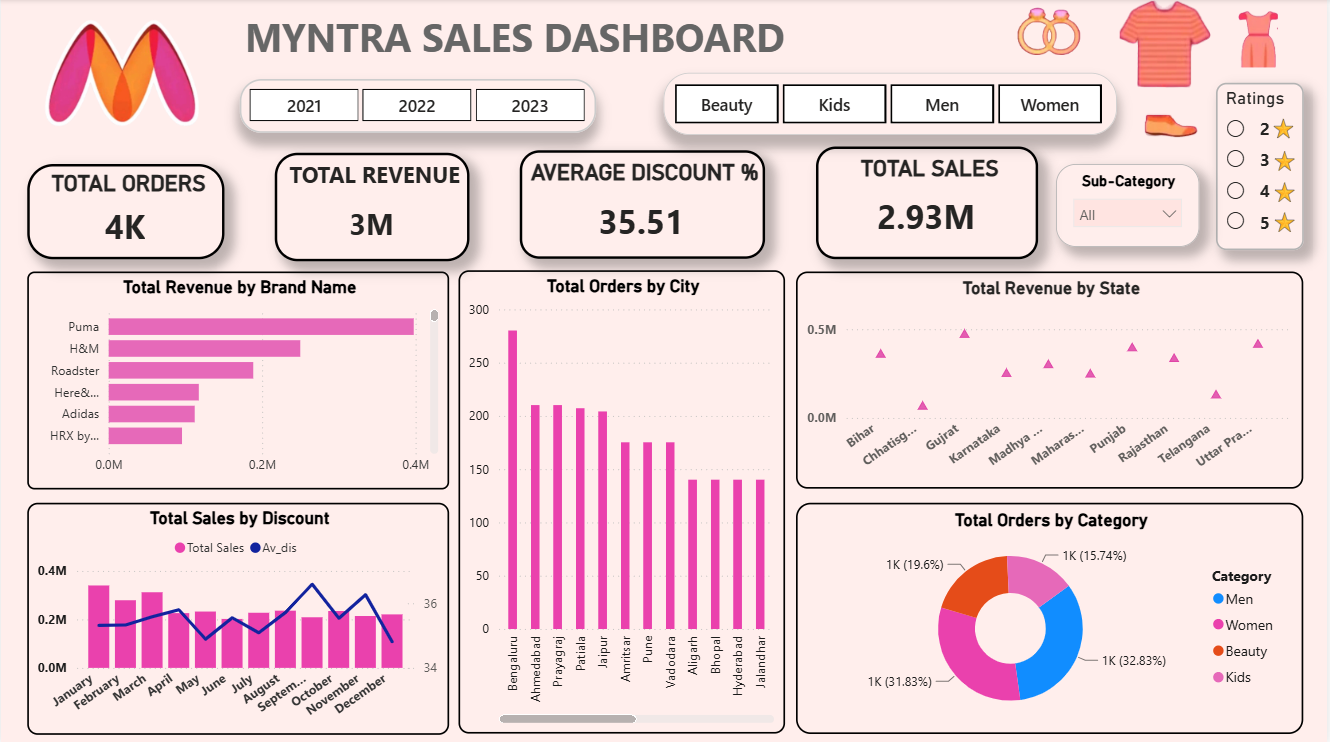

The dashboard page shown, as its layout file describes it:
{"tool":"powerbi","page":{"name":"Page 1","canvas":[1280,720],"ordinal":0},"visuals":[{"type":"image","box":[39.8,0,155.6,146],"z":0},{"type":"advancedSlicerVisual","fields":{"Values":["fact_orders.Date.Variation.Date Hierarchy.Year"]},"box":[230.4,77.2,343.8,51.9],"z":1000},{"type":"advancedSlicerVisual","fields":{"Values":["dim_products.Category"]},"box":[639.4,71.2,437.9,60.3],"z":2000},{"type":"clusteredBarChart","title":"Total Revenue by Brand Name","fields":{"Y":["fact_orders.Total revenue"],"Category":["dim_products.Brand Name"]},"box":[25.7,262.9,407.2,210.3],"z":3000},{"type":"lineStackedColumnComboChart","title":"Total Sales by Discount","fields":{"Y2":["dim_customers.Av_dis"],"Y":["fact_orders.Total Sales"],"Category":["fact_orders.Date.Variation.Date Hierarchy.Month"]},"box":[25.7,486.7,407.2,223.8],"z":4000},{"type":"ribbonChart","fields":{"Category":["dim_customers.City"],"Y":["fact_orders.Total Orders"]},"box":[441.6,261.8,314.9,447.6],"z":5000},{"type":"donutChart","fields":{"Category":["dim_products.Category"],"Y":["fact_orders.Total Orders"]},"box":[767.3,486.2,489.8,223.2],"z":6000},{"type":"textbox","box":[230.4,8.4,598.4,65.1],"z":7000},{"type":"cardVisual","title":"AVERAGE DISCOUNT","fields":{"Data":["dim_customers.Av_dis"]},"box":[500.7,146,236.5,105],"z":8000},{"type":"cardVisual","title":"TOTAL SALES","fields":{"Data":["fact_orders.Total Sales"]},"box":[786.6,142.4,214.7,108.6],"z":9000},{"type":"cardVisual","title":"TOTAL REVENUE","fields":{"Data":["fact_orders.Total revenue"]},"box":[264.2,148.4,188.2,105],"z":10000},{"type":"cardVisual","title":"TOTAL ORDERS","fields":{"Data":["fact_orders.Total Orders"]},"box":[25.3,159.3,190.6,91.7],"z":11000},{"type":"scatterChart","title":"Total Revenue by State","fields":{"X":["dim_customers.State"],"Y":["fact_orders.Total revenue"]},"box":[767.3,263,489.8,209.9],"z":12000},{"type":"listSlicer","fields":{"Values":["dim_products.Ratings"]},"box":[1172.7,80.8,84.5,161.7],"z":13000},{"type":"image","box":[1042.6,9.9,115,52],"z":14000},{"type":"image","box":[933.6,8.9,115,53],"z":15000},{"type":"image","box":[811.6,8.9,111,53],"z":16000},{"type":"image","box":[1150.9,13.3,106.2,55.5],"z":17000},{"type":"image","box":[1225.7,113.4,24.1,22.9],"z":18000},{"type":"image","box":[1227,144.8,24.1,22.9],"z":19000},{"type":"image","box":[1227,174.9,24.1,22.9],"z":20000},{"type":"image","box":[1227,203.9,24.1,22.9],"z":21000},{"type":"slicer","title":"Sub-Category","fields":{"Values":["dim_products.Sub-category"]},"box":[1018.2,159.3,138.7,79.6],"z":22001},{"type":"actionButton","box":[15.7,20.5,200.3,60.3],"z":22002}]}

Visuals, with their boxes in screenshot pixels (x1, y1, x2, y2), scaled from the page's 1280x720 canvas onto the 1330x742 screenshot:
image: {"x1": 41, "y1": 0, "x2": 203, "y2": 150}
advancedSlicerVisual - fact_orders.Date.Variation.Date Hierarchy.Year: {"x1": 239, "y1": 80, "x2": 597, "y2": 133}
advancedSlicerVisual - dim_products.Category: {"x1": 664, "y1": 73, "x2": 1119, "y2": 136}
"Total Revenue by Brand Name" clusteredBarChart: {"x1": 27, "y1": 271, "x2": 450, "y2": 488}
"Total Sales by Discount" lineStackedColumnComboChart: {"x1": 27, "y1": 502, "x2": 450, "y2": 732}
ribbonChart - dim_customers.City x fact_orders.Total Orders: {"x1": 459, "y1": 270, "x2": 786, "y2": 731}
donutChart - dim_products.Category x fact_orders.Total Orders: {"x1": 797, "y1": 501, "x2": 1306, "y2": 731}
textbox: {"x1": 239, "y1": 9, "x2": 861, "y2": 76}
"AVERAGE DISCOUNT" cardVisual: {"x1": 520, "y1": 150, "x2": 766, "y2": 259}
"TOTAL SALES" cardVisual: {"x1": 817, "y1": 147, "x2": 1040, "y2": 259}
"TOTAL REVENUE" cardVisual: {"x1": 275, "y1": 153, "x2": 470, "y2": 261}
"TOTAL ORDERS" cardVisual: {"x1": 26, "y1": 164, "x2": 224, "y2": 259}
"Total Revenue by State" scatterChart: {"x1": 797, "y1": 271, "x2": 1306, "y2": 487}
listSlicer - dim_products.Ratings: {"x1": 1219, "y1": 83, "x2": 1306, "y2": 250}
image: {"x1": 1083, "y1": 10, "x2": 1203, "y2": 64}
image: {"x1": 970, "y1": 9, "x2": 1090, "y2": 64}
image: {"x1": 843, "y1": 9, "x2": 959, "y2": 64}
image: {"x1": 1196, "y1": 14, "x2": 1306, "y2": 71}
image: {"x1": 1274, "y1": 117, "x2": 1299, "y2": 140}
image: {"x1": 1275, "y1": 149, "x2": 1300, "y2": 173}
image: {"x1": 1275, "y1": 180, "x2": 1300, "y2": 204}
image: {"x1": 1275, "y1": 210, "x2": 1300, "y2": 234}
"Sub-Category" slicer: {"x1": 1058, "y1": 164, "x2": 1202, "y2": 246}
actionButton: {"x1": 16, "y1": 21, "x2": 224, "y2": 83}
